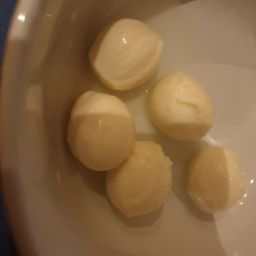Mini Mozzarella Cheese: (34, 12, 250, 252), (82, 132, 176, 227), (65, 78, 144, 174), (84, 17, 172, 95), (183, 132, 252, 230), (149, 70, 219, 141)
